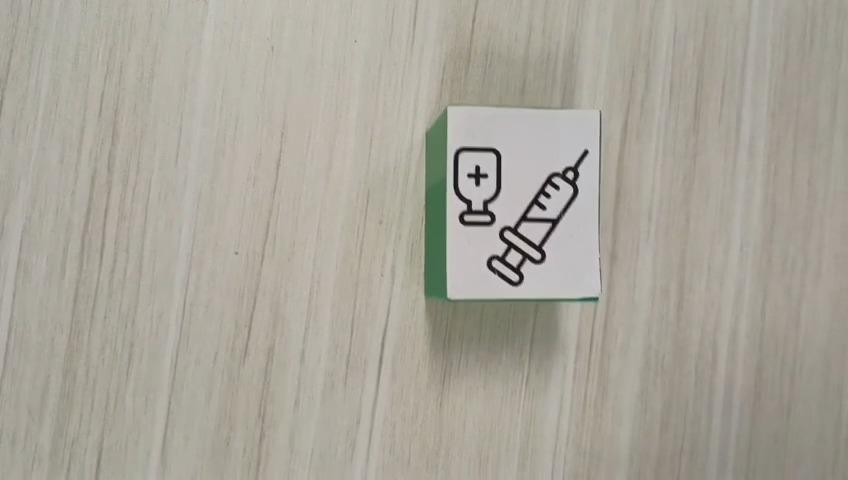antiseptic cream: (424, 103, 602, 302)
